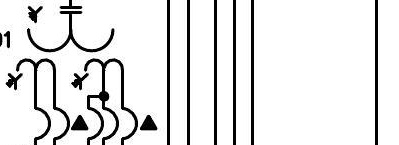115_cvt_3p: (5, 6, 125, 91)
